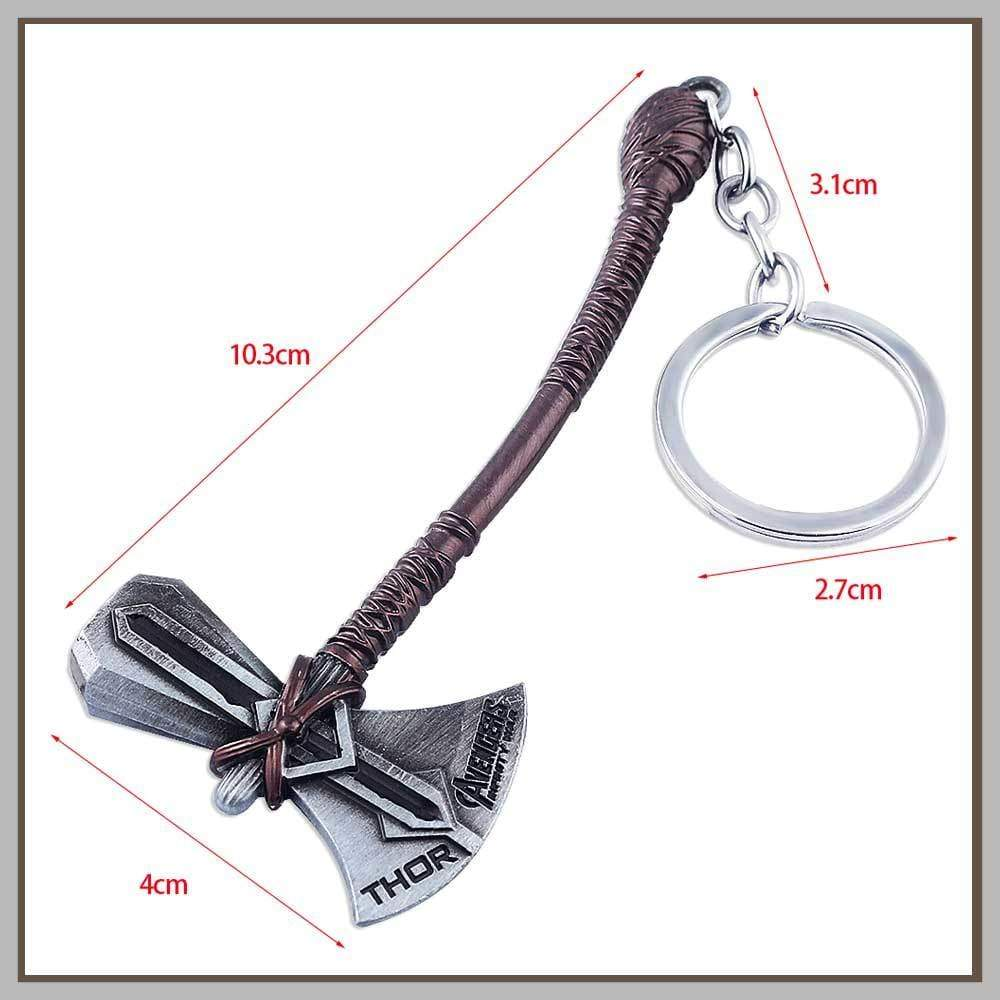THOR Hammer: (49, 58, 777, 896)
